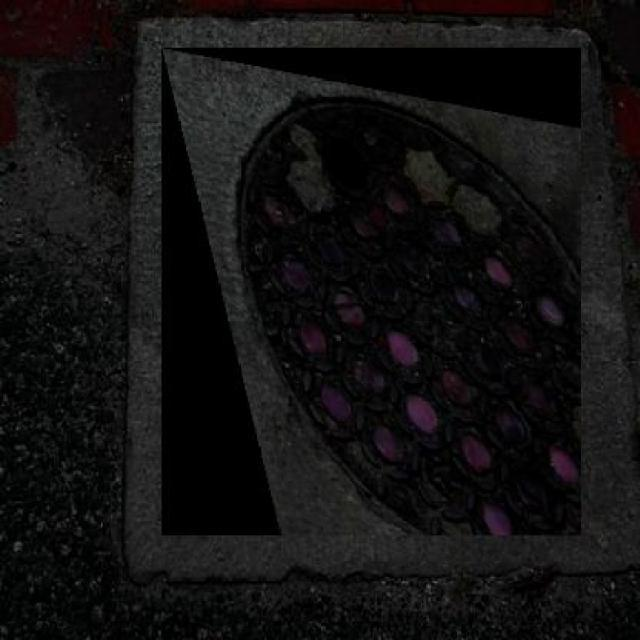Manhole: (162, 48, 581, 536)
